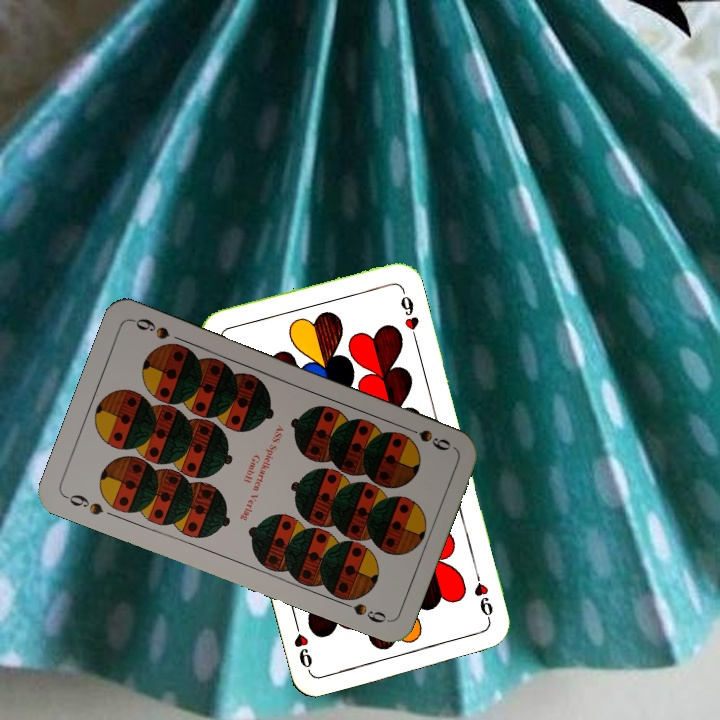H9: (470, 565, 496, 624)
S9: (398, 421, 453, 454), (61, 490, 106, 518)
